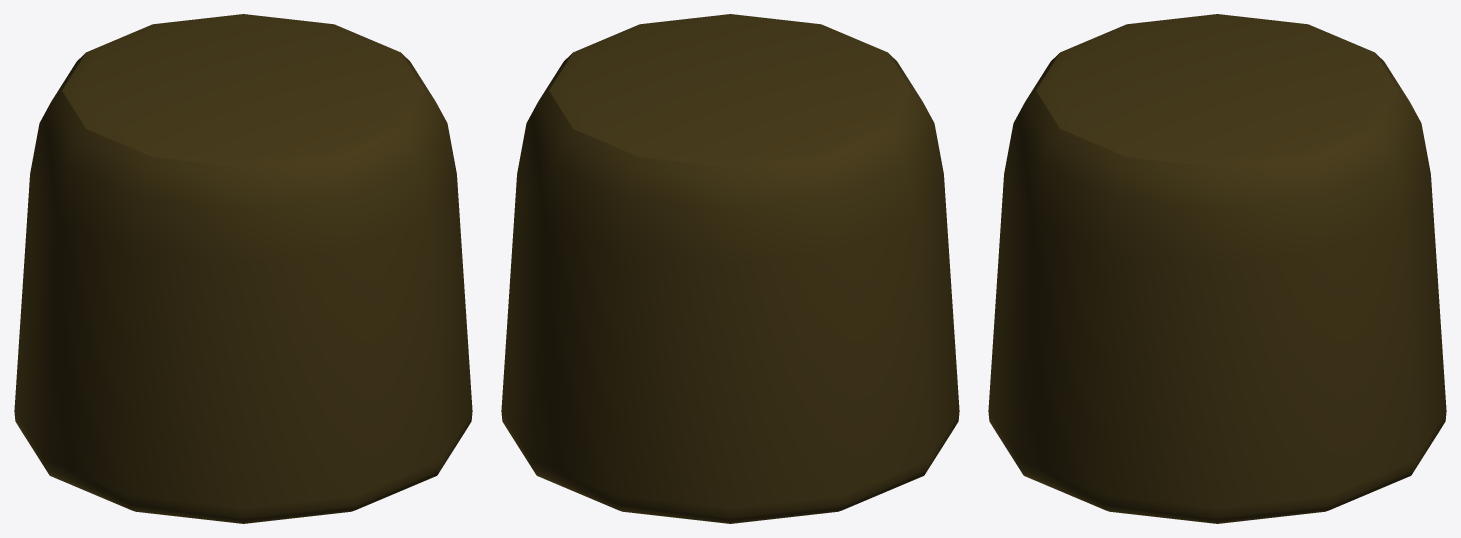
The model's file is BottleFilling_2_swallow.fbx.
3 views of the same model, side by side, from view 1: azimuth 30°, elevation 25°; view 2: azimuth 150°, elevation 25°; view 3: azimuth 270°, elevation 25° (orthographic).
Parts seen in each view (by area): view 1: BottleFilling_2_swallow001; view 2: BottleFilling_2_swallow001; view 3: BottleFilling_2_swallow001.
Part boxes in pixels (box(x1,y1,x2,y2)): BottleFilling_2_swallow001: box(14, 14, 472, 523); BottleFilling_2_swallow001: box(501, 14, 959, 523); BottleFilling_2_swallow001: box(988, 14, 1446, 523).
Bounding box in the file's own units: 6.89 × 5.76 × 6.89.
